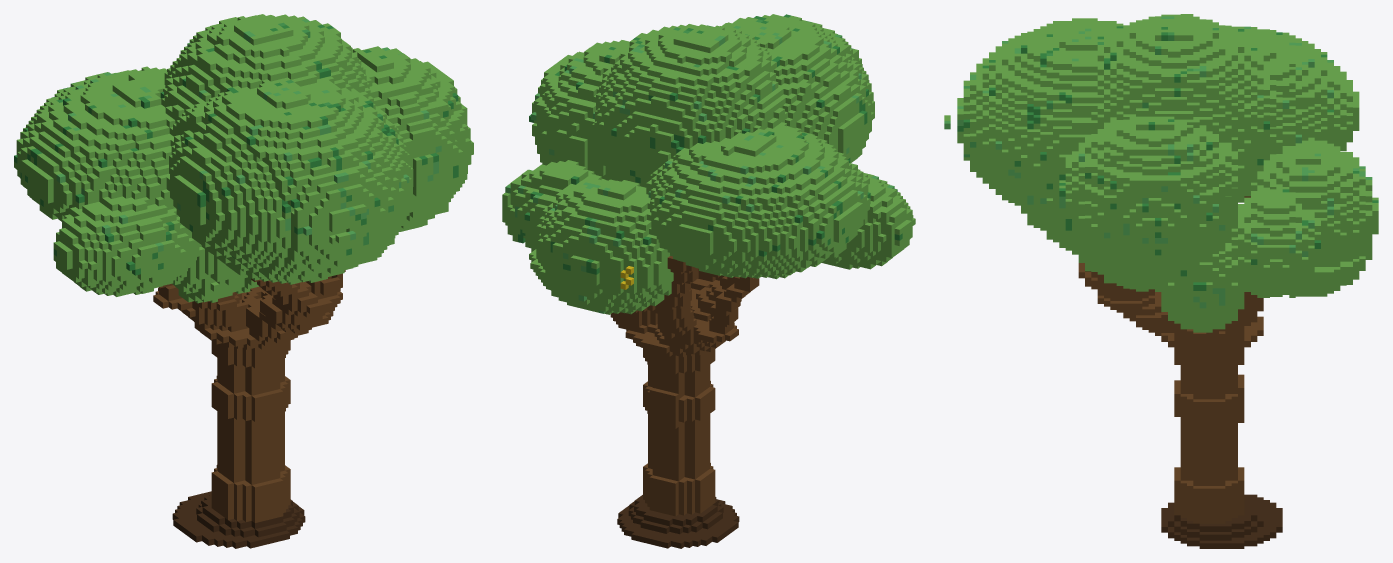
Rendered from 1_3 caja.obj.
3 renders of one model, left to right at view 1: azimuth 30°, elevation 25°; view 2: azimuth 150°, elevation 25°; view 3: azimuth 270°, elevation 25°, orthographic. The views are drawn at different scales.
Bounding box in the file's own units: 6.9 × 8.6 × 6.8.
Materials: 1 (1 with a texture image).
